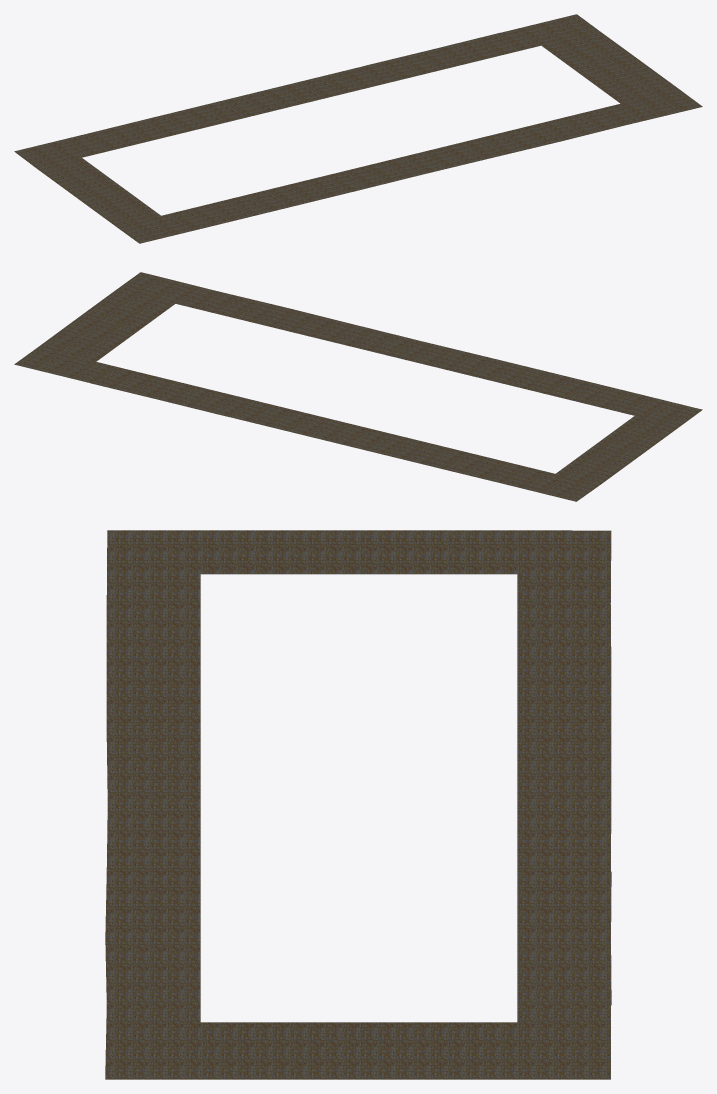
The model's file is Road.obj.
The picture shows the model from 3 angles, top to bottom: view 1: azimuth 30°, elevation 25°; view 2: azimuth 150°, elevation 25°; view 3: azimuth 270°, elevation 25°; orthographic projection. The views are drawn at different scales.
Visible parts, largest first — view 1: polySurface3 polySurface1 pPlane2; view 2: polySurface3 polySurface1 pPlane2; view 3: polySurface3 polySurface1 pPlane2.
Part boxes in pixels (left/top/right/bottom): polySurface3 polySurface1 pPlane2: left=14, top=14, right=702, bottom=243; polySurface3 polySurface1 pPlane2: left=14, top=272, right=702, bottom=501; polySurface3 polySurface1 pPlane2: left=105, top=530, right=611, bottom=1079.
Size of the model in its own units: 132 by 0 by 51.38.
1 material, 1 textured.
